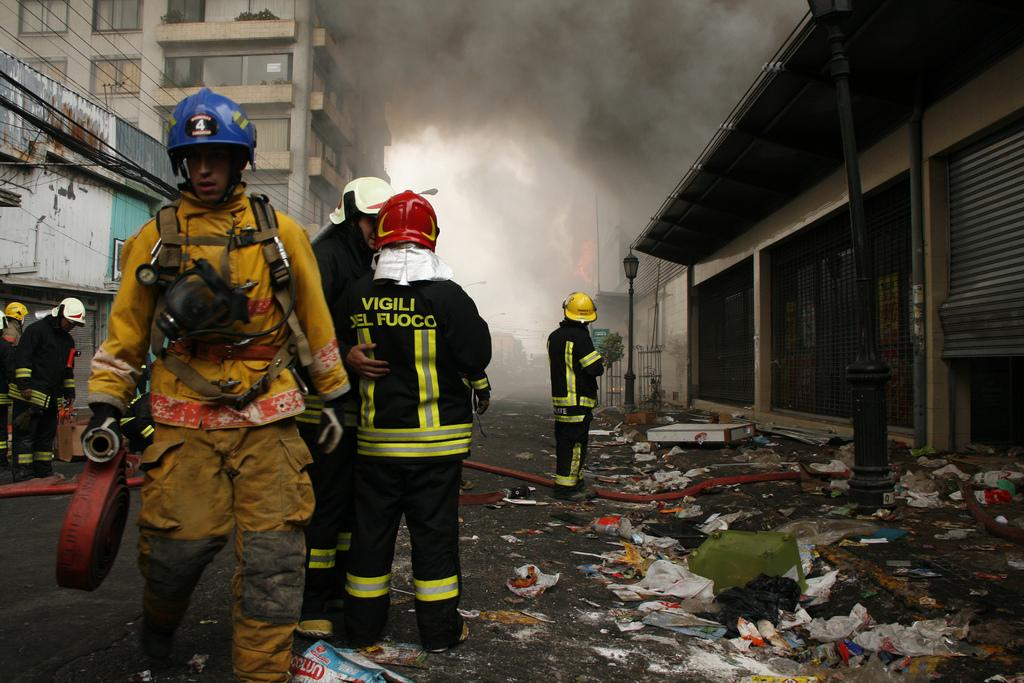smoke: (365, 7, 702, 100), (482, 183, 590, 277)
